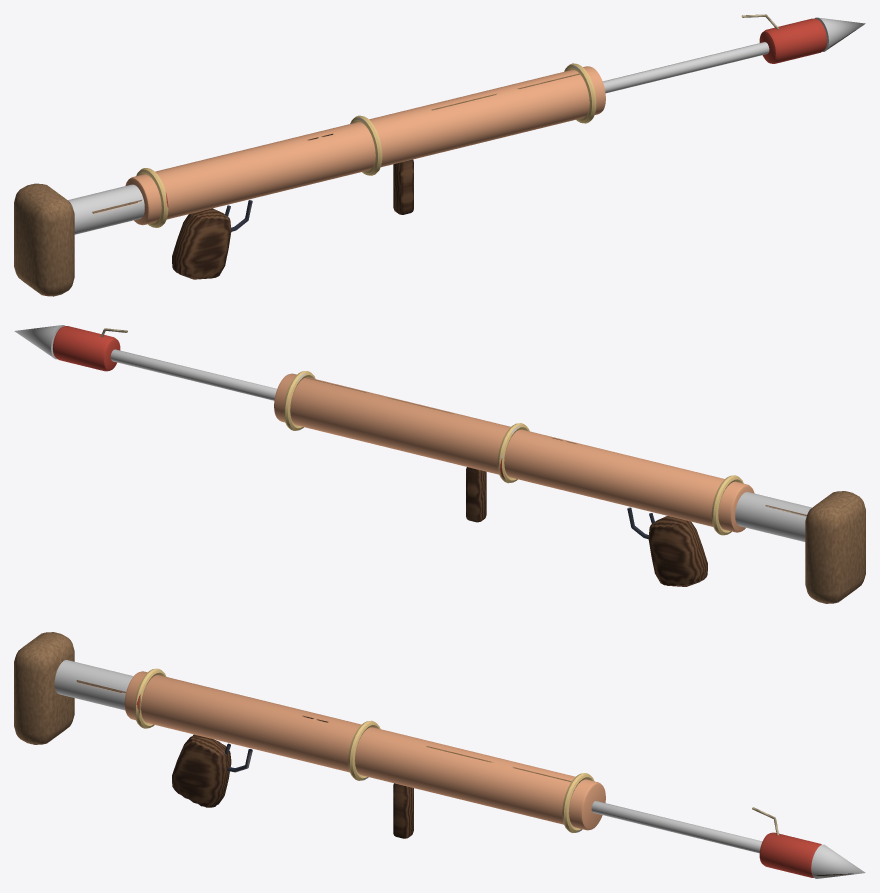
Rendered from cannonharpoon.glb.
3 renders of one model, top to bottom at view 1: azimuth 30°, elevation 25°; view 2: azimuth 150°, elevation 25°; view 3: azimuth 330°, elevation 25°, orthographic.
Visible parts, largest first — view 1: tube, pad, grip, spring, shaft, charge, fore_grip, charge_tip, band0.48, band0.2, band-0.08; view 2: tube, pad, grip, spring, shaft, charge, fore_grip, charge_tip, band-0.08, band0.2, band0.48; view 3: tube, pad, grip, spring, shaft, charge, charge_tip, fore_grip, band-0.08, band0.2, band0.48.
Part boxes in pixels (left/top/right/bottom): tube: left=125, top=66, right=605, bottom=225; pad: left=14, top=183, right=74, bottom=296; grip: left=172, top=208, right=231, bottom=279; spring: left=68, top=184, right=144, bottom=234; shaft: left=602, top=42, right=769, bottom=93; charge: left=759, top=18, right=826, bottom=63; fore_grip: left=393, top=159, right=413, bottom=214; charge_tip: left=814, top=17, right=865, bottom=51; band0.48: left=564, top=63, right=596, bottom=123; band0.2: left=350, top=115, right=382, bottom=175; band-0.08: left=136, top=168, right=168, bottom=227; tube: left=274, top=373, right=754, bottom=532; pad: left=805, top=491, right=865, bottom=603; grip: left=648, top=516, right=707, bottom=586; spring: left=735, top=492, right=811, bottom=541; shaft: left=110, top=349, right=276, bottom=400; charge: left=52, top=326, right=120, bottom=371; fore_grip: left=466, top=467, right=486, bottom=522; charge_tip: left=14, top=325, right=64, bottom=359; band-0.08: left=711, top=475, right=743, bottom=535; band0.2: left=497, top=423, right=529, bottom=483; band0.48: left=283, top=371, right=315, bottom=430; tube: left=124, top=671, right=605, bottom=830; pad: left=14, top=632, right=74, bottom=744; grip: left=172, top=734, right=231, bottom=807; spring: left=54, top=660, right=133, bottom=710; shaft: left=591, top=801, right=762, bottom=853; charge: left=759, top=832, right=821, bottom=877; charge_tip: left=811, top=844, right=865, bottom=878; fore_grip: left=393, top=783, right=413, bottom=838; band-0.08: left=134, top=668, right=166, bottom=728; band0.2: left=348, top=720, right=380, bottom=780; band0.48: left=562, top=773, right=594, bottom=832.
Size of the model in its own units: 1.1 by 0.1567 by 0.08.
1 material, 1 textured.
